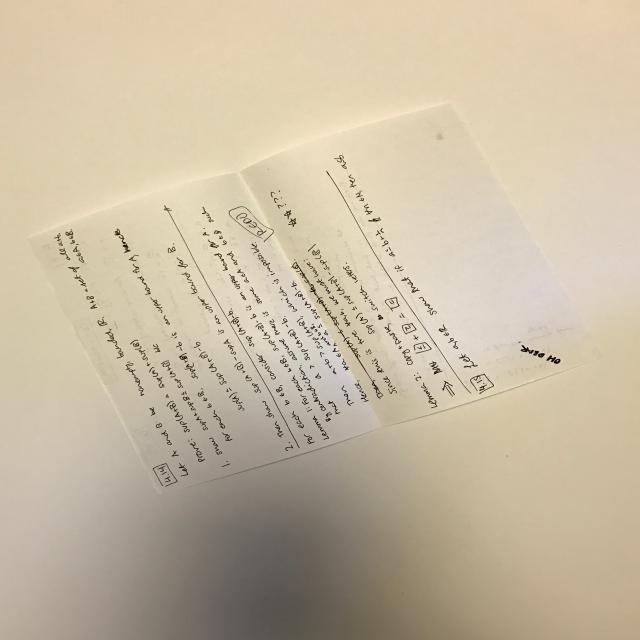paper: (0, 93, 640, 502)
